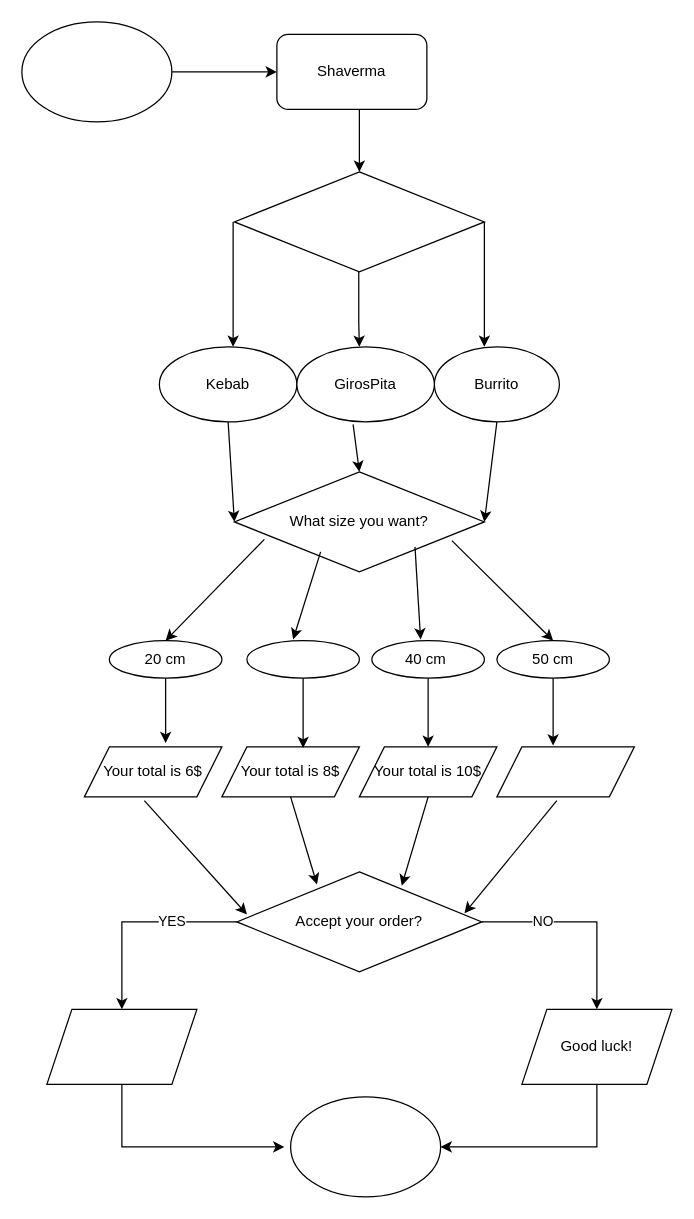
Image size: 694x1219. Some labels were removed from this diagram. The shapes that lost their labels are listed below. From the top down, each one's box as (x1, y1, x2, y2) in pixels, then its label:
(21, 21, 172, 122): Start
(233, 171, 484, 272): What type of shaverma u want?
(246, 639, 359, 678): 30 cm
(496, 746, 634, 797): Your total is 12$
(46, 1008, 197, 1084): Thanks for order!
(289, 1096, 441, 1197): Stop
